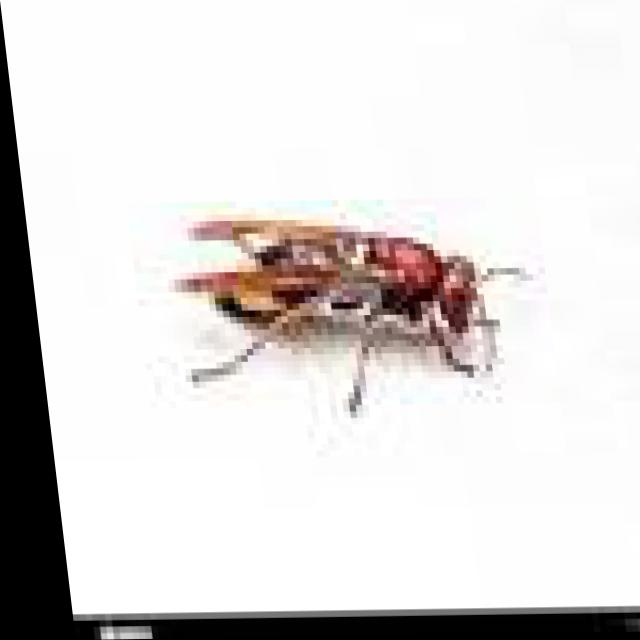Vespa Orientalis: (130, 178, 549, 434)
